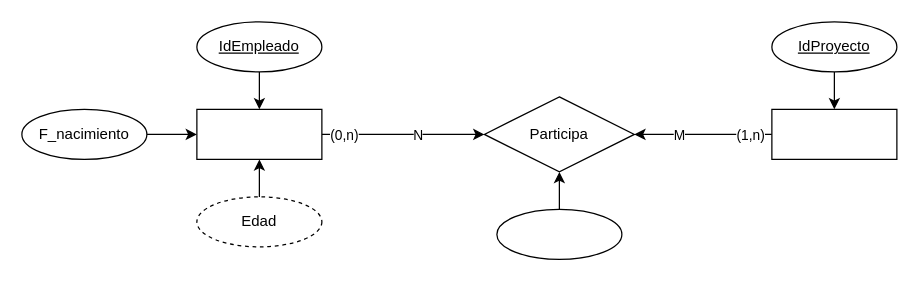
This 919x281 diagram has some shape labels left out. Here are the shapes that lost their labels. From the top down, the centre of each, then its label:
the point at 259,133: Empleado
the point at 834,133: Proyecto
the point at 559,233: Calificación_Obtenida
